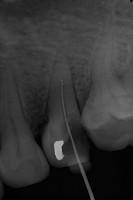Endo-Periodontal Lesion: (116, 69, 126, 81)
